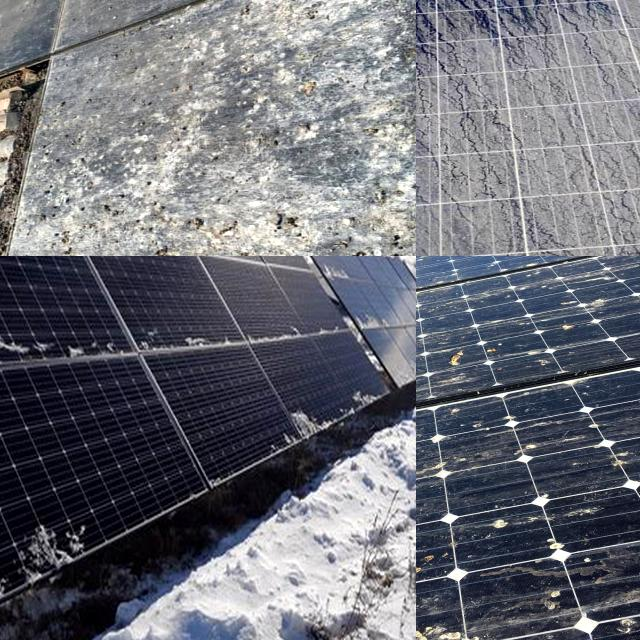bird: (0, 46, 91, 160), (557, 288, 633, 343), (135, 0, 186, 74), (562, 444, 640, 492), (146, 85, 203, 143), (439, 336, 499, 388), (416, 605, 505, 640), (449, 518, 527, 550), (22, 20, 98, 52), (416, 417, 457, 474), (308, 37, 357, 79), (214, 34, 258, 78), (127, 0, 205, 21), (416, 537, 458, 575), (416, 606, 460, 640), (108, 0, 179, 20), (34, 0, 95, 18), (22, 0, 79, 19), (323, 0, 358, 23), (0, 0, 45, 14), (623, 536, 640, 572), (0, 0, 29, 21)
dust: (416, 0, 640, 256), (474, 0, 640, 38), (416, 0, 517, 41)
panel: (0, 513, 79, 640), (268, 390, 387, 446), (0, 318, 122, 370), (137, 329, 247, 362), (256, 322, 336, 355), (354, 306, 402, 340), (314, 256, 362, 286), (393, 351, 416, 394)
